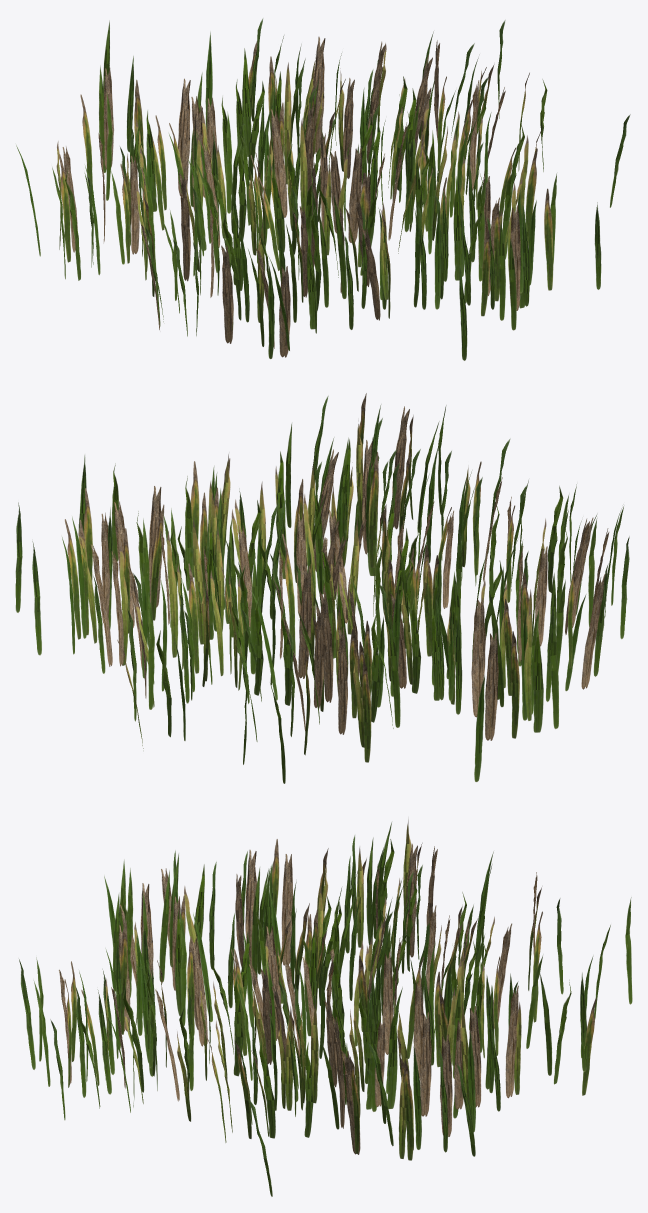
The model's file is grass.glb.
The picture shows the model from 3 angles, top to bottom: view 1: azimuth 30°, elevation 25°; view 2: azimuth 150°, elevation 25°; view 3: azimuth 270°, elevation 25°; orthographic projection. The views are drawn at different scales.
Visible parts, largest first — view 1: Layer 1.090, Layer 1.020, Layer 1.174, Layer 1.195, Layer 1.006, Layer 1.167, Layer 1.209, Layer 1.251, Layer 1.097, Layer 1.069, Layer 1.247, Layer 1.217 (+29 smaller); view 2: Layer 1.244, Layer 1.188, Layer 1.020, Layer 1.237, Layer 1.279, Layer 1.146, Layer 1.251, Layer 1.252, Layer 1.153, Layer 1.177, Layer 1.134, Layer 1.125 (+42 smaller); view 3: Layer 1.265, Layer 1.167, Layer 1.174, Layer 1.083, Layer 1.048, Layer 1.147, Layer 1.237, Layer 1.258, Layer 1.230, Layer 1.268, Layer 1.013, Layer 1.188 (+26 smaller).
Boxes of the visible parts, bbox=[...] form: Layer 1.090: bbox=[178, 78, 190, 196]; Layer 1.020: bbox=[271, 108, 287, 217]; Layer 1.174: bbox=[313, 37, 325, 153]; Layer 1.195: bbox=[221, 245, 233, 343]; Layer 1.006: bbox=[348, 147, 362, 242]; Layer 1.167: bbox=[179, 172, 190, 281]; Layer 1.209: bbox=[279, 266, 290, 357]; Layer 1.251: bbox=[509, 205, 520, 310]; Layer 1.097: bbox=[130, 155, 139, 254]; Layer 1.069: bbox=[343, 78, 354, 178]; Layer 1.247: bbox=[544, 188, 553, 290]; Layer 1.217: bbox=[453, 176, 462, 280]; Layer 1.244: bbox=[485, 632, 498, 740]; Layer 1.188: bbox=[471, 601, 483, 717]; Layer 1.020: bbox=[298, 565, 312, 678]; Layer 1.237: bbox=[581, 574, 605, 689]; Layer 1.279: bbox=[337, 627, 347, 734]; Layer 1.146: bbox=[314, 605, 324, 708]; Layer 1.251: bbox=[392, 406, 409, 529]; Layer 1.252: bbox=[533, 621, 543, 732]; Layer 1.153: bbox=[319, 592, 333, 702]; Layer 1.177: bbox=[368, 452, 378, 567]; Layer 1.134: bbox=[167, 531, 178, 657]; Layer 1.125: bbox=[535, 546, 547, 646]; Layer 1.265: bbox=[419, 1011, 431, 1116]; Layer 1.167: bbox=[281, 854, 292, 965]; Layer 1.174: bbox=[505, 985, 518, 1098]; Layer 1.083: bbox=[192, 941, 207, 1046]; Layer 1.048: bbox=[382, 951, 393, 1054]; Layer 1.147: bbox=[387, 998, 397, 1108]; Layer 1.237: bbox=[245, 850, 256, 969]; Layer 1.258: bbox=[440, 1034, 452, 1136]; Layer 1.230: bbox=[469, 1006, 481, 1107]; Layer 1.268: bbox=[403, 1060, 413, 1160]; Layer 1.013: bbox=[266, 926, 281, 1040]; Layer 1.188: bbox=[405, 843, 417, 957].
Size of the model in its own units: 5.28 by 1.45 by 5.41.
7 materials, 7 textured.
